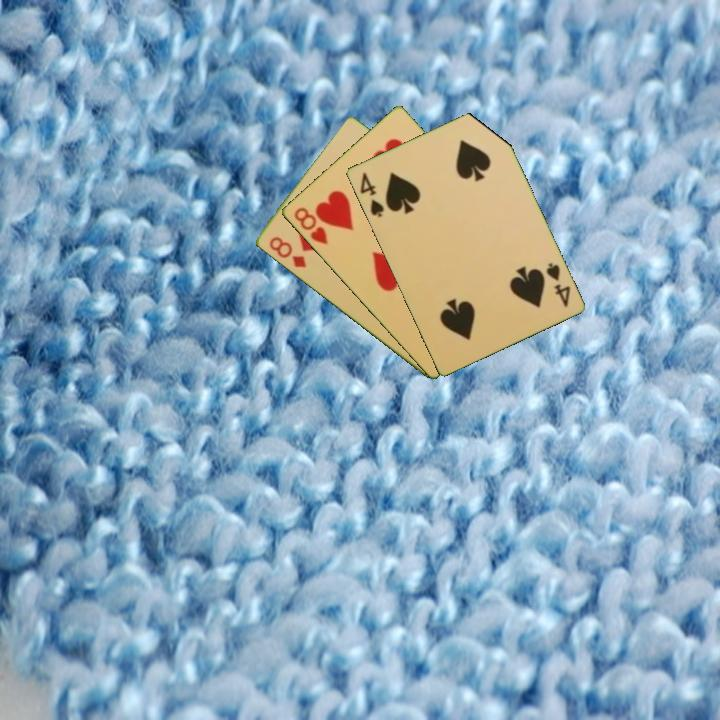4s: (356, 168, 387, 220), (542, 259, 573, 310)
8d: (265, 233, 309, 271)
8h: (290, 204, 330, 248)
